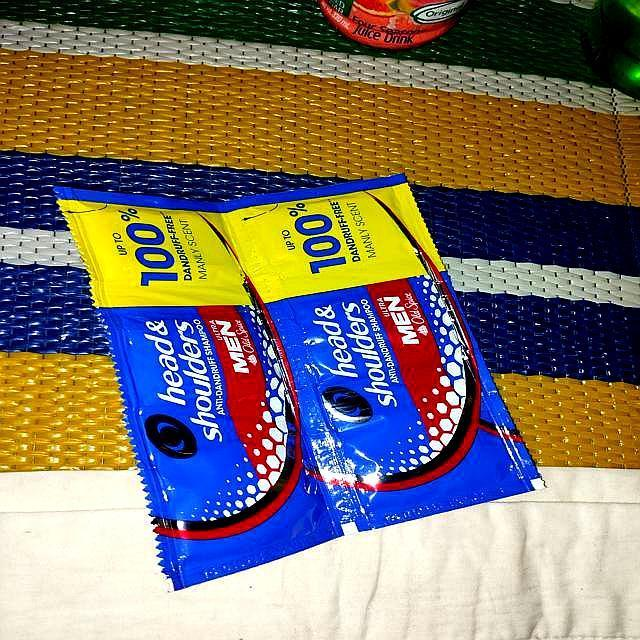Non-biodegradable: (52, 169, 546, 592)
